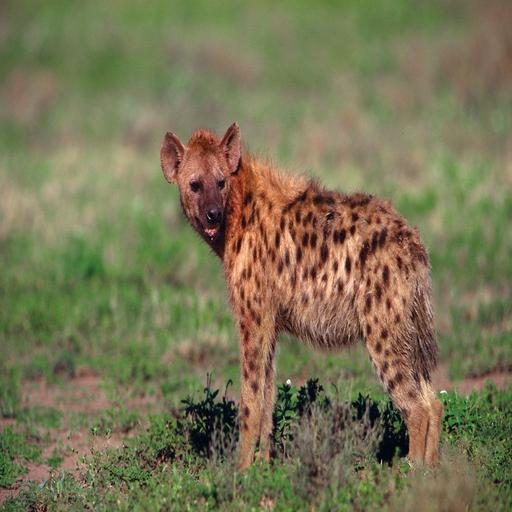Hyena: (159, 119, 449, 512)
